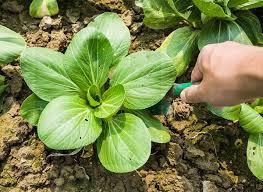Healthy-Pechay: (15, 14, 192, 156)
